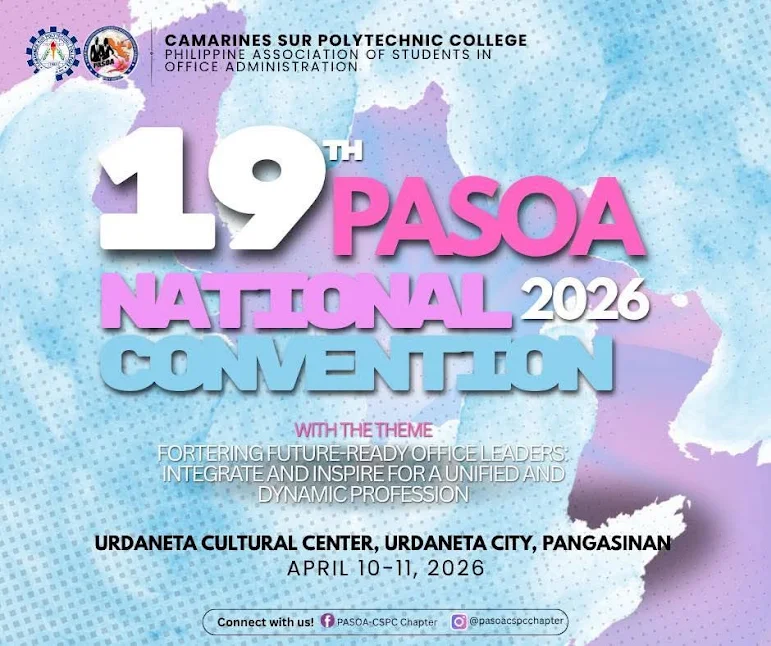embellishment: (448, 611, 469, 632), (320, 612, 336, 629)
logo: (85, 26, 141, 83), (24, 25, 82, 80)
text: (93, 116, 660, 404), (145, 415, 585, 511), (89, 522, 681, 582), (159, 29, 540, 79), (213, 615, 317, 630), (337, 616, 440, 629), (471, 616, 564, 628)
